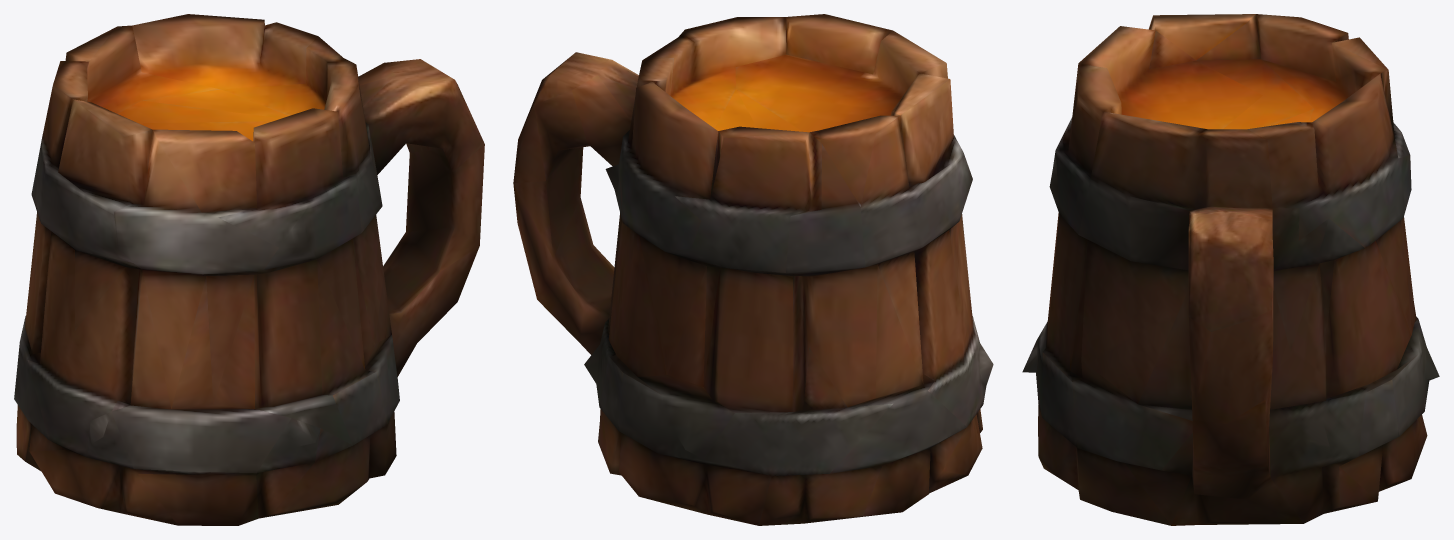
Rendered from meal_grog-mobile.glb.
3 renders of one model, left to right at view 1: azimuth 30°, elevation 25°; view 2: azimuth 150°, elevation 25°; view 3: azimuth 270°, elevation 25°, orthographic.
Parts seen in each view (by area): view 1: tripo_node_12836e16-e992-4322-8c18-786808a46dd2; view 2: tripo_node_12836e16-e992-4322-8c18-786808a46dd2; view 3: tripo_node_12836e16-e992-4322-8c18-786808a46dd2.
Part boxes in pixels (x1,y1,x2,y2): tripo_node_12836e16-e992-4322-8c18-786808a46dd2: (14, 14, 484, 525); tripo_node_12836e16-e992-4322-8c18-786808a46dd2: (513, 14, 993, 525); tripo_node_12836e16-e992-4322-8c18-786808a46dd2: (1022, 14, 1439, 525).
Bounding box in the file's own units: 0.9822 × 0.8016 × 0.8076.
1 material, 1 textured.
